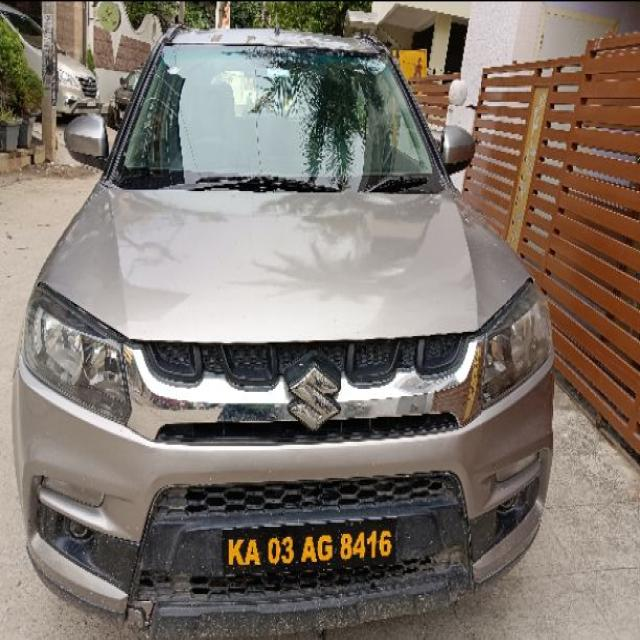license_plate: (11, 22, 556, 636), (218, 516, 398, 577)
